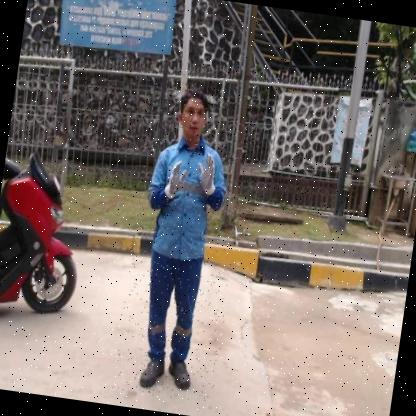bota: (162, 354, 198, 394), (134, 352, 167, 393)
